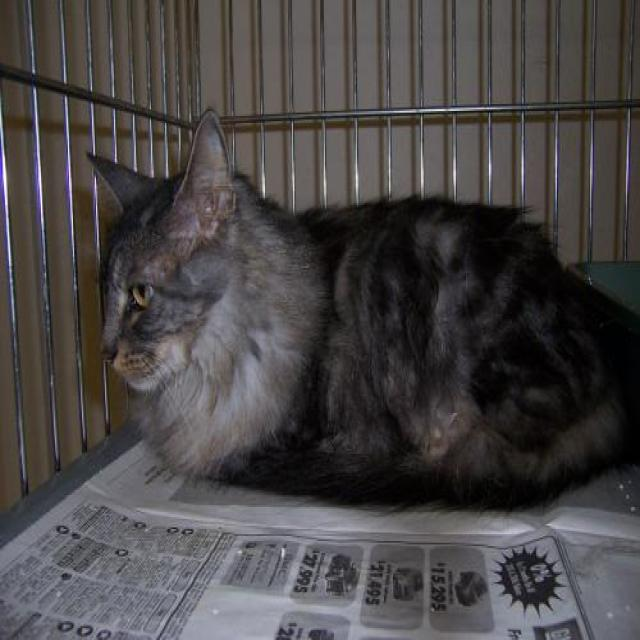Cats: (84, 106, 638, 512)
